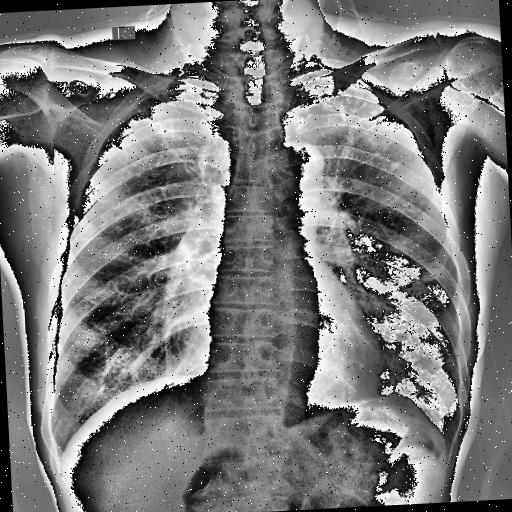11- Pleural thickening: (386, 378, 404, 398)
13- Pulmonary fibrosis: (282, 74, 398, 168), (314, 94, 416, 180), (140, 90, 214, 178), (136, 104, 212, 184), (341, 88, 400, 176), (130, 96, 180, 140)
9- Other lesion: (130, 96, 180, 140)
